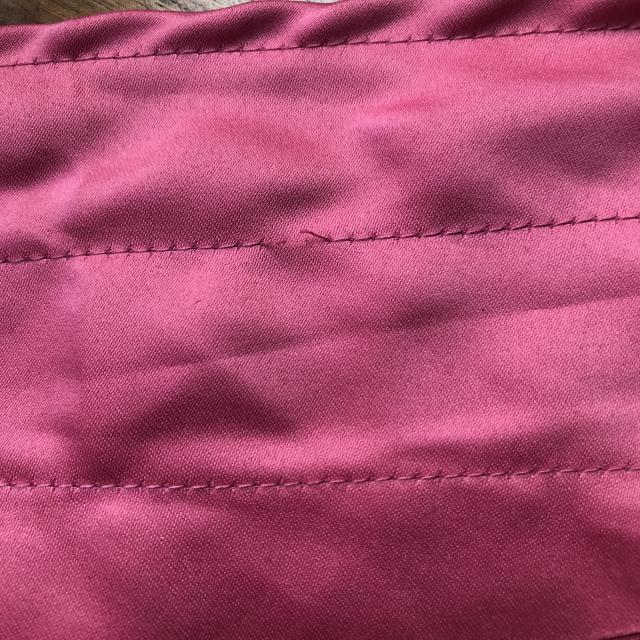broken: (236, 214, 347, 261)
